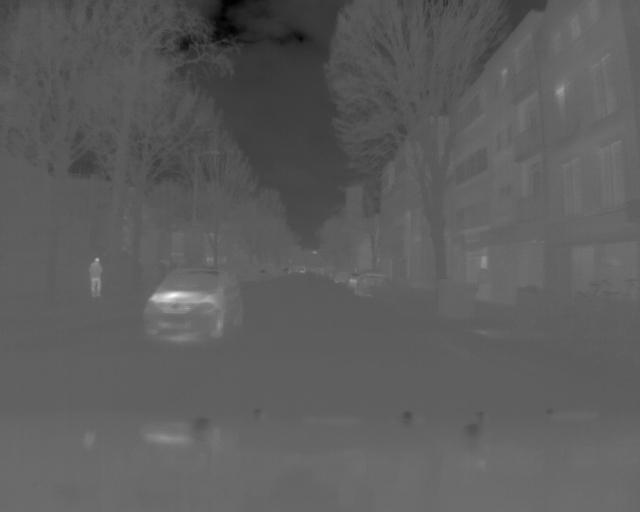car: (146, 261, 242, 340)
person: (87, 254, 103, 298)
